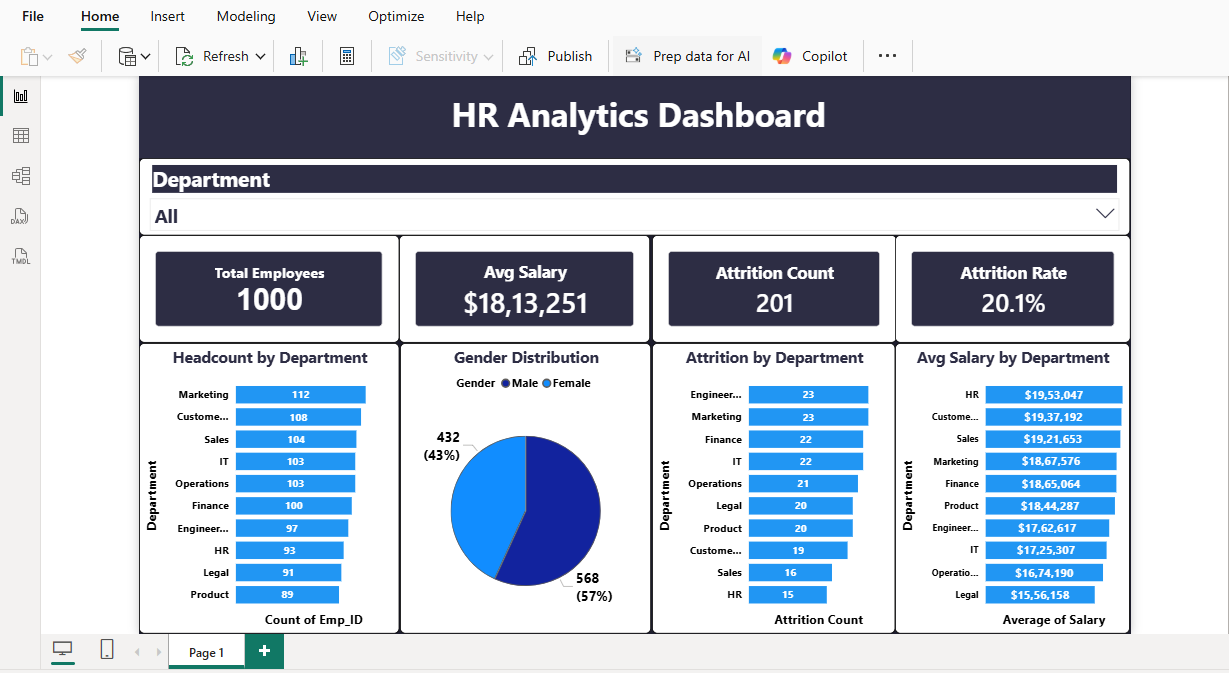

This screenshot's page, from the dashboard's own definition file:
{"tool":"powerbi","page":{"name":"Page 1","canvas":[1280,720],"ordinal":0},"visuals":[{"type":"barChart","title":"Headcount by Department","fields":{"Category":["HR_Data.Department"],"Y":["CountNonNull(HR_Data.Emp_ID)"]},"box":[0,344.6,335.9,375],"z":0},{"type":"pieChart","title":"Gender Distribution","fields":{"Category":["HR_Data.Gender"],"Y":["CountNonNull(HR_Data.Emp_ID)"]},"box":[337.4,344.6,324.3,375],"z":1000},{"type":"cardVisual","fields":{"Data":["Count(HR_Data.Emp_ID)"]},"box":[0,205.6,335.9,139],"z":2000},{"type":"cardVisual","fields":{"Data":["Avg(HR_Data.Salary)"]},"box":[335.9,205.6,324.3,139],"z":3000},{"type":"cardVisual","fields":{"Data":["HR_Data.Attrition Count"]},"box":[661.7,205.6,315.7,139],"z":4000},{"type":"actionButton","box":[0,0,100,40],"z":5000},{"type":"cardVisual","fields":{"Data":["HR_Data.Attrition Rate"]},"box":[975.9,205.6,304.1,139],"z":6000},{"type":"slicer","fields":{"Values":["HR_Data.Department"]},"box":[0,105.7,1278.6,99.9],"z":7000},{"type":"barChart","title":"Attrition by Department","fields":{"Category":["HR_Data.Department"],"Y":["HR_Data.Attrition Count"]},"box":[661.7,344.6,314.2,375],"z":8000},{"type":"barChart","title":"Avg Salary by Department","fields":{"Category":["HR_Data.Department"],"Y":["Avg(HR_Data.Salary)"]},"box":[975.9,344.6,302.6,375],"z":9000},{"type":"textbox","box":[0,0,1278.6,105.7],"z":9001}]}

Visuals, with their boxes on the page's 1280x720 design canvas (x1, y1, x2, y2). These are canvas units, not pixel positions in the 1229x673 screenshot, which may show the page scaled, cropped or inside an application window:
"Headcount by Department" barChart: crop(0, 345, 336, 720)
"Gender Distribution" pieChart: crop(337, 345, 662, 720)
cardVisual - Count(HR_Data.Emp_ID): crop(0, 206, 336, 345)
cardVisual - Avg(HR_Data.Salary): crop(336, 206, 660, 345)
cardVisual - HR_Data.Attrition Count: crop(662, 206, 977, 345)
actionButton: crop(0, 0, 100, 40)
cardVisual - HR_Data.Attrition Rate: crop(976, 206, 1280, 345)
slicer - HR_Data.Department: crop(0, 106, 1279, 206)
"Attrition by Department" barChart: crop(662, 345, 976, 720)
"Avg Salary by Department" barChart: crop(976, 345, 1278, 720)
textbox: crop(0, 0, 1279, 106)
